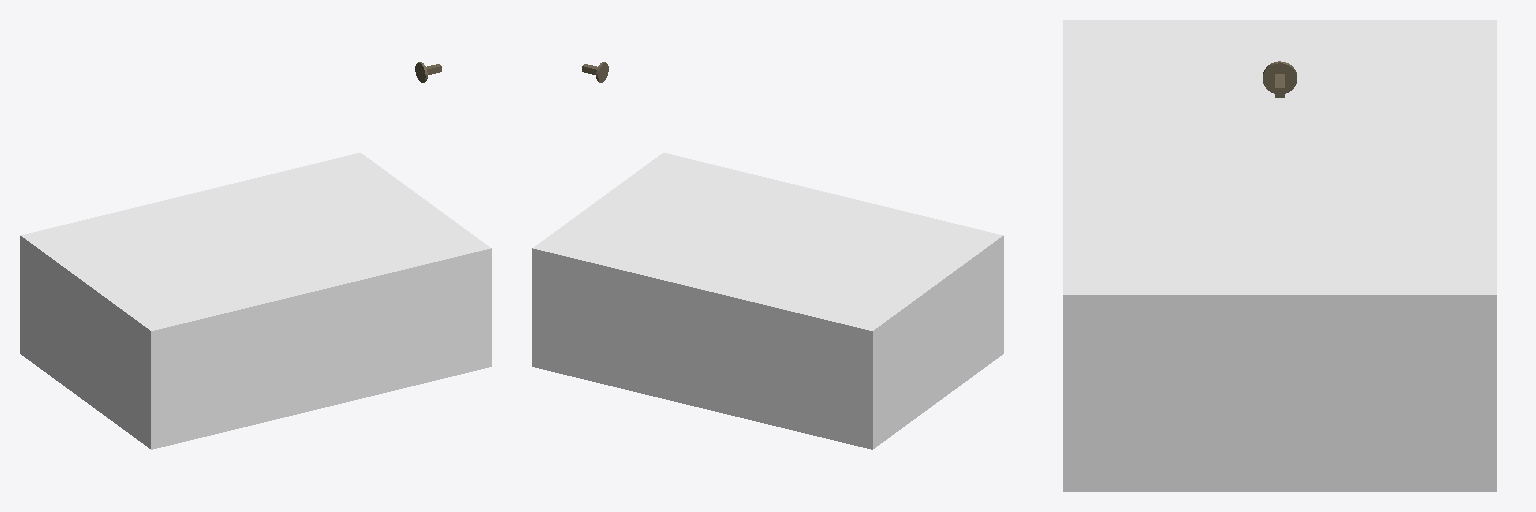
The robot description file, URDF, robot "kuka_kr6r900sixx":
<?xml version="1.0" ?>
<!-- =================================================================================== -->
<!-- |    This document was autogenerated by xacro from kr6r900sixx.xacro              | -->
<!-- |    EDITING THIS FILE BY HAND IS NOT RECOMMENDED                                 | -->
<!-- =================================================================================== -->
<robot name="kuka_kr6r900sixx" xmlns:xacro="http://wiki.ros.org/xacro">
  <!-- colours based on RAL values given in "FAQ - Colours of robot and robot
       controller", version "KUKA.Tifs | 2010-01-21 |YM| DefaultColorsRobotAndController.doc",
       downloaded 2015-07-18 from
       http://www.kuka.be/main/cservice/faqs/hardware/DefaultColorsRobotAndController.pdf

       all RAL colours converted using http://www.visual-graphics.de/en/customer-care/ral-colours
  -->
  <link name="world"/>

<link name="table">
  <visual>
    <origin rpy="0 0 0" xyz="0 0 0"/>
    <geometry>
      <box size="1.2 0.8 0.4"/>
    </geometry>
    <material name="">
      <color rgba="1 1 1 1" />
    </material>
  </visual>
  <collision>
    <origin rpy="0 0 0" xyz="0 0 0" />
    <geometry>
      <box size="1.2 0.8 0.4"/>
    </geometry>
  </collision>
  <inertial>
    <origin rpy="0 0 0" xyz="0.0 0.0 0.0" />
    <mass value="100.0" />
    <inertia ixx="2.67" ixy="0.0" ixz="0.0" iyy="9.67" iyz="0.0" izz="9.67" />
  </inertial>
</link>



  <link name="base_link">
    <visual>
      <origin rpy="0 0 0" xyz="0 0 0"/>
      <geometry>
        <mesh filename="package://kuka_kr6_support/meshes/kr6_agilus/visual/base_link.dae"/>
      </geometry>
      <material name="">
        <color rgba="0.505882352941 0.470588235294 0.388235294118 1.0"/>
      </material>
    </visual>
    <collision>
      <origin rpy="0 0 0" xyz="0 0 0"/>
      <geometry>
        <mesh filename="package://kuka_kr6_support/meshes/kr6_agilus/collision/base_link.stl"/>
      </geometry>
    </collision>
    <inertial>
      <origin rpy="0 0 0" xyz="0 0 0"/>
      <mass value="30"/>
      <inertia ixx="0.094" ixy="0.0" ixz="0.0" iyy="0.172" iyz="0.0" izz="0.194"/>
    </inertial>
  </link>
  <link name="link_1">
    <visual>
      <origin rpy="0 0 0" xyz="0 0 0"/>
      <geometry>
        <mesh filename="package://kuka_kr6_support/meshes/kr6_agilus/visual/link_1.dae"/>
      </geometry>
      <material name="">
        <color rgba="0.964705882353 0.470588235294 0.156862745098 1.0"/>
      </material>
    </visual>
    <collision>
      <origin rpy="0 0 0" xyz="0 0 0"/>
      <geometry>
        <mesh filename="package://kuka_kr6_support/meshes/kr6_agilus/collision/link_1.stl"/>
      </geometry>
    </collision>
    <inertial>
      <origin rpy="0 0 0" xyz="0 0 0"/>
      <mass value="12.5"/>
      <inertia ixx="0.141" ixy="0.0" ixz="0.0" iyy="0.121" iyz="0.0" izz="0.121"/>
    </inertial>
  </link>
  <link name="link_2">
    <visual>
      <origin rpy="0 0 0" xyz="0 0 0"/>
      <geometry>
        <mesh filename="package://kuka_kr6_support/meshes/kr6r900sixx/visual/link_2.dae"/>
      </geometry>
      <material name="">
        <color rgba="0.964705882353 0.470588235294 0.156862745098 1.0"/>
      </material>
    </visual>
    <collision>
      <origin rpy="0 0 0" xyz="0 0 0"/>
      <geometry>
        <mesh filename="package://kuka_kr6_support/meshes/kr6r900sixx/collision/link_2.stl"/>
      </geometry>
    </collision>
    <inertial>
      <origin rpy="0 0 0" xyz="0 0 0"/>
      <mass value="5"/>
      <inertia ixx="0.072" ixy="0.0" ixz="0.0" iyy="0.357" iyz="0.0" izz="0.345"/>
    </inertial>
  </link>
  <link name="link_3">
    <visual>
      <origin rpy="0 0 0" xyz="0 0 0"/>
      <geometry>
        <mesh filename="package://kuka_kr6_support/meshes/kr6_agilus/visual/link_3.dae"/>
      </geometry>
      <material name="">
        <color rgba="0.964705882353 0.470588235294 0.156862745098 1.0"/>
      </material>
    </visual>
    <collision>
      <origin rpy="0 0 0" xyz="0 0 0"/>
      <geometry>
        <mesh filename="package://kuka_kr6_support/meshes/kr6_agilus/collision/link_3.stl"/>
      </geometry>
    </collision>
    <inertial>
      <origin rpy="0 0 0" xyz="0 0 0"/>
      <mass value="5"/>
      <inertia ixx="0.011" ixy="0.0" ixz="0.0" iyy="0.017" iyz="0.0" izz="0.018"/>
    </inertial>
  </link>
  <link name="link_4">
    <visual>
      <origin rpy="0 0 0" xyz="0 0 0"/>
      <geometry>
        <mesh filename="package://kuka_kr6_support/meshes/kr6r900sixx/visual/link_4.dae"/>
      </geometry>
      <material name="">
        <color rgba="0.964705882353 0.470588235294 0.156862745098 1.0"/>
      </material>
    </visual>
    <collision>
      <origin rpy="0 0 0" xyz="0 0 0"/>
      <geometry>
        <mesh filename="package://kuka_kr6_support/meshes/kr6r900sixx/collision/link_4.stl"/>
      </geometry>
    </collision>
    <inertial>
      <origin rpy="0 0 0" xyz="0 0 0"/>
      <mass value="5"/>
      <inertia ixx="0.01" ixy="0.0" ixz="0.0" iyy="0.056" iyz="0.0" izz="0.056"/>
    </inertial>
  </link>
  <link name="link_5">
    <visual>
      <origin rpy="0 0 0" xyz="0 0 0"/>
      <geometry>
        <mesh filename="package://kuka_kr6_support/meshes/kr6_agilus/visual/link_5.dae"/>
      </geometry>
      <material name="">
        <color rgba="0.964705882353 0.470588235294 0.156862745098 1.0"/>
      </material>
    </visual>
    <collision>
      <origin rpy="0 0 0" xyz="0 0 0"/>
      <geometry>
        <mesh filename="package://kuka_kr6_support/meshes/kr6_agilus/collision/link_5.stl"/>
      </geometry>
    </collision>
    <inertial>
      <origin rpy="0 0 0" xyz="0 0 0"/>
      <mass value="2"/>
      <inertia ixx="0.001" ixy="0.0" ixz="0.0" iyy="0.01" iyz="0.0" izz="0.001"/>
    </inertial>
  </link>
  <link name="link_6">
    <visual>
      <origin rpy="0 0 0" xyz="0 0 0"/>
      <geometry>
        <mesh filename="package://kuka_kr6_support/meshes/kr6_agilus/visual/link_6.dae"/>
      </geometry>
      <material name="">
        <color rgba="0.505882352941 0.470588235294 0.388235294118 1.0"/>
      </material>
    </visual>
    <collision>
      <origin rpy="0 0 0" xyz="0 0 0"/>
      <geometry>
        <mesh filename="package://kuka_kr6_support/meshes/kr6_agilus/collision/link_6.stl"/>
      </geometry>
    </collision>
    <inertial>
      <origin rpy="0 0 0" xyz="0 0 0"/>
      <mass value="1"/>
      <inertia ixx="0.001" ixy="0.0" ixz="0.0" iyy="0.01" iyz="0.0" izz="0.001"/>
    </inertial>
  </link>

  <!-- This frame corresponds to the $FLANGE coordinate system in KUKA KRC controllers. -->
  <link name="tool0">
    <visual>
      <origin rpy="0 0 0" xyz="0 0 0"/>
      <geometry>
        <mesh filename="package://kuka_kr6_support/meshes/kr6r900sixx/visual/priruba.stl" scale="0.001 0.001 0.001"/>
      </geometry>
      <material name="">
        <color rgba="0.505882352941 0.470588235294 0.388235294118 1.0"/>
      </material>
    </visual>
    <collision>
      <origin rpy="0 0 0" xyz="0 0 0"/>
      <geometry>
        <mesh filename="package://kuka_kr6_support/meshes/kr6r900sixx/visual/priruba.stl" scale="0.001 0.001 0.001"/>
      </geometry>
    </collision>
    <inertial>
      <origin rpy="0 0 0" xyz="0 0 0"/>
      <mass value="1"/>
      <inertia ixx="0.001" ixy="0.0" ixz="0.0" iyy="0.01" iyz="0.0" izz="0.001"/>
    </inertial>
  </link>
<!--  <link name="gripper_body">
    <visual>
      <origin rpy="0 0 0" xyz="0 0 0"/>
      <geometry>
        <mesh filename="package://kuka_kr6_support/meshes/kr6r900sixx/visual/gripper_body.stl" scale="0.001 0.001 0.001"/>
      </geometry>
      <material name="">
        <color rgba="0.505882352941 0.470588235294 0.388235294118 1.0"/>
      </material>
    </visual>
    <collision>
      <origin rpy="0 0 0" xyz="0 0 0"/>
      <geometry>
        <mesh filename="package://kuka_kr6_support/meshes/kr6r900sixx/visual/gripper_body.stl" scale="0.001 0.001 0.001"/>
      </geometry>
    </collision>
    <inertial>
      <origin rpy="0 0 0" xyz="0 0 0"/>
      <mass value="1"/>
      <inertia ixx="0.001" ixy="0.0" ixz="0.0" iyy="0.01" iyz="0.0" izz="0.001"/>
    </inertial>
  </link>-->


  <link name="fingers">
    <visual>
      <origin rpy="0 0 0" xyz="0 0 0"/>
      <geometry>
        <box size="0.07 0.02 0.02"/>
      </geometry>
      <material name="">
        <color rgba="0.505882352941 0.470588235294 0.388235294118 1.0"/>
      </material>
    </visual>
    <collision>
      <origin rpy="0 0 0" xyz="0 0 0" />
      <geometry>
        <box size="0.07 0.02 0.02"/>
      </geometry>
    </collision>
    <inertial>
      <origin rpy="0 0 0" xyz="0.0 0.0 0.0" />
      <mass value="0.2" />
      <inertia ixx="0.001" ixy="0.0" ixz="0.0" iyy="0.01" iyz="0.0" izz="0.001"/>
    </inertial>
  </link>
  
  <gazebo reference="tool0">
    <material>Gazebo/Grey</material>
  </gazebo>
  <gazebo reference="fingers">
    <material>Gazebo/Grey</material>
  </gazebo>
<!--  <gazebo reference="gripper_body">
    <material>Gazebo/Grey</material>
  </gazebo>-->


  <!-- Joints                                                                           -->
  <!-- ________________________________________________________________________________ -->
<!--  <joint name="joint_orig" type="fixed">
    <parent link="world"/>
    <child link="base_link"/>
  </joint>-->

  <joint name="joint_table" type="fixed">
    <origin rpy="0 0 0" xyz="0.6 0.0 0.2" />
    <parent link="world"/>
    <child link="table"/>
  </joint>

  <joint name="joint_table_kuka" type="fixed">
    <origin rpy="0 0 0" xyz="-0.4 0.0 0.2" />
    <parent link="table"/>
    <child link="base_link"/>
  </joint>


  <joint name="joint_a1" type="revolute">
    <origin rpy="0 0 0" xyz="0 0 0.400"/>
    <parent link="base_link"/>
    <child link="link_1"/>
    <axis xyz="0 0 -1"/>
    <limit effort="100" lower="-1.0471975512" upper="1.0471975512" velocity="6.28318530718"/>
    <dynamics damping="0.7" friction="100"/>
  </joint>
  <joint name="joint_a2" type="revolute">
    <origin rpy="0 0 0" xyz="0.025 0 0"/>
    <parent link="link_1"/>
    <child link="link_2"/>
    <axis xyz="0 1 0"/>
    <limit effort="100" lower="-1.5707963268" upper="0.1745329252" velocity="5.23598775598"/>
    <dynamics damping="0.7" friction="100"/>
  </joint>
  <joint name="joint_a3" type="revolute">
    <origin rpy="0 0 0" xyz="0.455 0 0"/>
    <parent link="link_2"/>
    <child link="link_3"/>
    <axis xyz="0 1 0"/>
    <limit effort="100" lower="0" upper="2.3561944902" velocity="6.28318530718"/>
    <dynamics damping="0.7" friction="100"/>
  </joint>
  <joint name="joint_a4" type="revolute">
    <origin rpy="0 0 0" xyz="0 0 0.035"/>
    <parent link="link_3"/>
    <child link="link_4"/>
    <axis xyz="-1 0 0"/>
    <limit effort="100" lower="-1.5707963268" upper="1.5707963268" velocity="6.6497044501"/>
    <dynamics damping="0.7" friction="100"/>
  </joint>
  <joint name="joint_a5" type="revolute">
    <origin rpy="0 0 0" xyz="0.420 0 0"/>
    <parent link="link_4"/>
    <child link="link_5"/>
    <axis xyz="0 1 0"/>
    <limit effort="100" lower="-1.5707963268" upper="1.9198621772" velocity="6.77187749774"/>
    <dynamics damping="0.7" friction="100"/>
  </joint>
  <joint name="joint_a6" type="revolute">
    <origin rpy="0 0 0" xyz="0.080 0 0"/>
    <parent link="link_5"/>
    <child link="link_6"/>
    <axis xyz="-1 0 0"/>
    <limit effort="100" lower="-3.8397243544" upper="3.8397243544" velocity="10.7337748998"/>
    <dynamics damping="0.7" friction="100"/>
  </joint>
  <joint name="joint_a6-tool0" type="fixed">
    <parent link="link_6"/>
    <child link="tool0"/>
    <origin rpy="0 0 0" xyz="0 0 0"/>
  </joint>
  <joint name="tool0-gripper_body" type="fixed">
    <parent link="tool0"/>
    <child link="fingers"/>
    <origin rpy="0 0 3.14" xyz="0.035 0 0"/>
  </joint>
<!--  <joint name="joint_finger" type="fixed">
    <parent link="gripper_body"/>
    <child link="fingers"/>
    <origin rpy="0 0 3.14" xyz="0.05 0 0"/>
  </joint>-->


  <!-- ROS base_link to KUKA $ROBROOT coordinate system transform <origin xyz="-0.043 -0.034 -0.056" rpy="0 0 0"/>-->
  <link name="base"/>
  <joint name="base_link-base" type="fixed">
    <origin rpy="0 0 0" xyz="0 0 0"/>
    <parent link="base_link"/>
    <child link="base"/>
  </joint>

  <!-- Gazebo                                                                           -->
  <!-- ________________________________________________________________________________ -->

  <transmission name="trans_joint_a1">
    <type>transmission_interface/SimpleTransmission</type>
    <joint name="joint_a1">
      <hardwareInterface>hardware_interface/PositionJointInterface</hardwareInterface>
    </joint>
    <actuator name="joint_a1_motor">
      <hardwareInterface>hardware_interface/PositionJointInterface</hardwareInterface>
      <mechanicalReduction>1</mechanicalReduction>
    </actuator>
  </transmission>
  <transmission name="trans_joint_a2">
    <type>transmission_interface/SimpleTransmission</type>
    <joint name="joint_a2">
      <hardwareInterface>hardware_interface/PositionJointInterface</hardwareInterface>
    </joint>
    <actuator name="joint_a2_motor">
      <hardwareInterface>hardware_interface/PositionJointInterface</hardwareInterface>
       <mechanicalReduction>1</mechanicalReduction>
    </actuator>
  </transmission>
  <transmission name="trans_joint_a3">
    <type>transmission_interface/SimpleTransmission</type>
    <joint name="joint_a3">
      <hardwareInterface>hardware_interface/PositionJointInterface</hardwareInterface>
    </joint>
    <actuator name="joint_a3_motor">
      <hardwareInterface>hardware_interface/PositionJointInterface</hardwareInterface>
      <mechanicalReduction>1</mechanicalReduction>
    </actuator>
  </transmission>
  <transmission name="trans_joint_a4">
    <type>transmission_interface/SimpleTransmission</type>
    <joint name="joint_a4">
      <hardwareInterface>hardware_interface/PositionJointInterface</hardwareInterface>
    </joint>
    <actuator name="joint_a4_motor">
      <hardwareInterface>hardware_interface/PositionJointInterface</hardwareInterface>
      <mechanicalReduction>1</mechanicalReduction>
    </actuator>
  </transmission>
  <transmission name="trans_joint_a5">
    <type>transmission_interface/SimpleTransmission</type>
    <joint name="joint_a5">
      <hardwareInterface>hardware_interface/PositionJointInterface</hardwareInterface>
    </joint>
    <actuator name="joint_a5_motor">
      <hardwareInterface>hardware_interface/PositionJointInterface</hardwareInterface>
      <mechanicalReduction>1</mechanicalReduction>
    </actuator>
  </transmission>
  <transmission name="trans_joint_a6">
    <type>transmission_interface/SimpleTransmission</type>
    <joint name="joint_a6">
      <hardwareInterface>hardware_interface/PositionJointInterface</hardwareInterface>
    </joint>
    <actuator name="joint_a6_motor">
      <hardwareInterface>hardware_interface/PositionJointInterface</hardwareInterface>
      <mechanicalReduction>1</mechanicalReduction>
     </actuator>
  </transmission>
  <gazebo>
    <plugin name="gazebo_ros_control" filename="libgazebo_ros_control.so">
      <robotNamespace>/</robotNamespace>
    </plugin>
  </gazebo>


</robot>

--- Render facts (derived) ---
3 views of the same robot in one strip: view 1: azimuth 30°, elevation 25°; view 2: azimuth 150°, elevation 25°; view 3: azimuth 270°, elevation 25° (orthographic).
Robot: kuka_kr6r900sixx — 12 links, 11 joints (6 revolute, 5 fixed); root link world; default pose: every joint at zero.
Links seen in each view (by area): view 1: table; view 2: table; view 3: table, tool0.
Boxes of the visible links, x1,y1,x2,y2 form: table: [20, 153, 491, 449]; table: [532, 153, 1003, 449]; table: [1063, 20, 1496, 491]; tool0: [1263, 61, 1296, 93].
Size in the robot's own frame: 1.25 by 0.8 by 0.867 metres.
Meshes: 8 distinct files referenced, 1 mesh visuals loaded (1 binary STL); not drawn: 7 (reference not matched to a file when rendering).